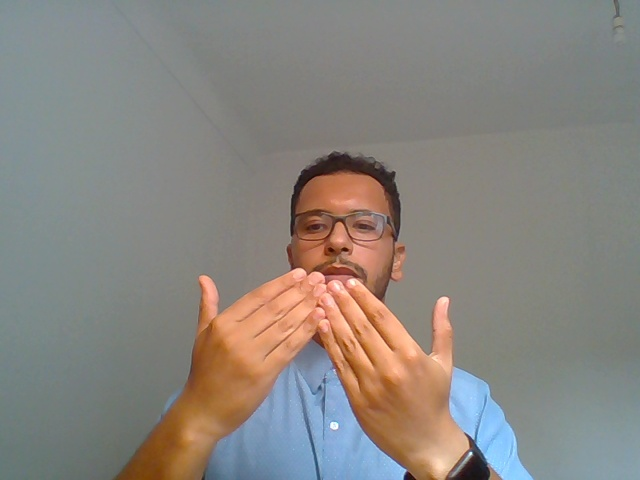thanks: (143, 265, 491, 480)
